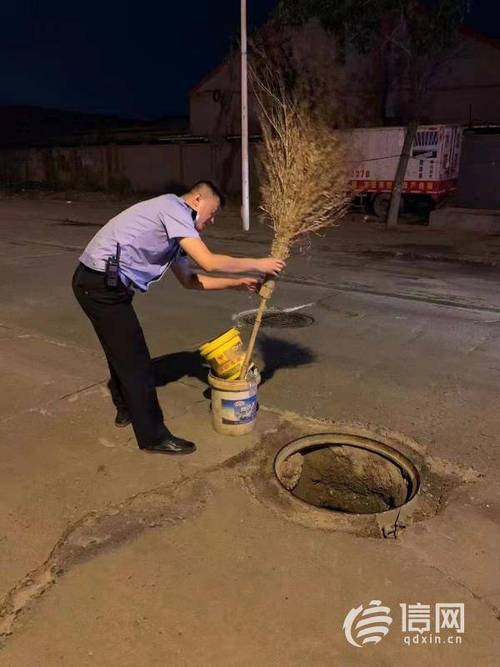lose: (251, 411, 436, 541)
